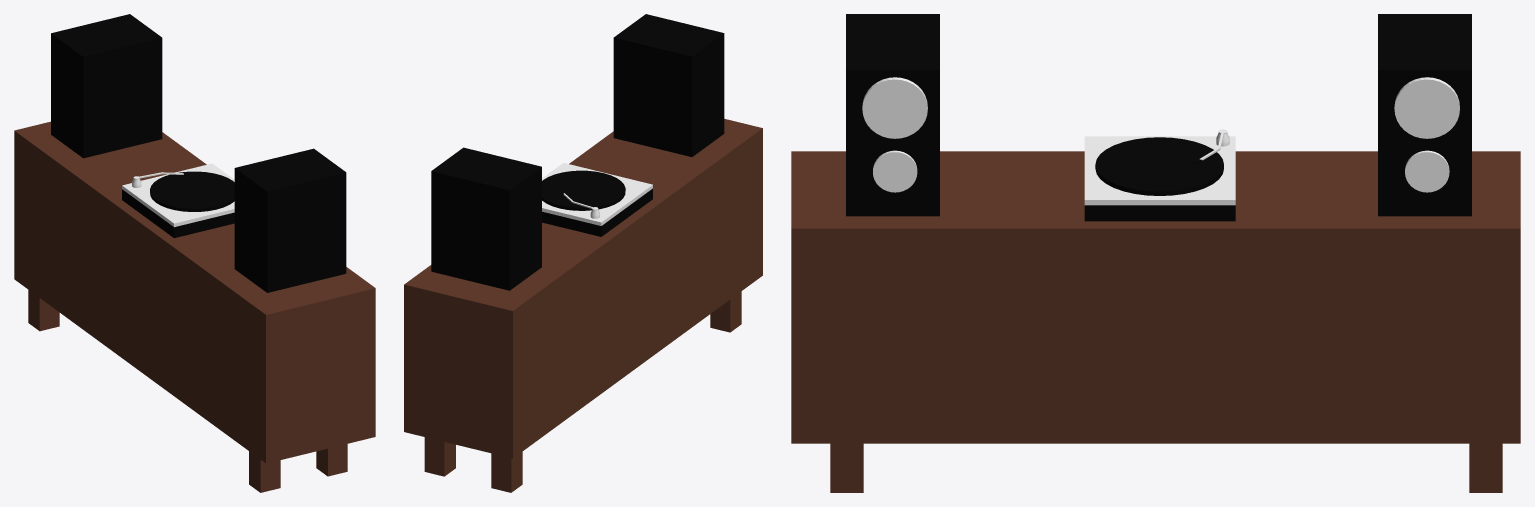
Rendered from Model_Audio.dae.
The picture shows the model from 3 angles, left to right: view 1: azimuth 30°, elevation 25°; view 2: azimuth 150°, elevation 25°; view 3: azimuth 270°, elevation 25°; orthographic projection. The views are drawn at different scales.
Parts seen in each view (by area): view 1: Spot_Video.004, Cube.185, Cube.184, Cylinder.091, Cube.181, Cube.183, Cube.180; view 2: Spot_Video.004, Cube.185, Cube.184, Cylinder.091, Cube.183, Cube.182, Cube.181; view 3: Spot_Video.004, Cube.184, Cube.185, Cylinder.091, Cube.180, Cube.182.
Part boxes in pixels (bbox=[...]): Spot_Video.004: bbox=[14, 121, 375, 463]; Cube.185: bbox=[234, 148, 346, 292]; Cube.184: bbox=[51, 14, 162, 158]; Cylinder.091: bbox=[122, 163, 234, 238]; Cube.181: bbox=[249, 451, 280, 492]; Cube.183: bbox=[28, 290, 59, 331]; Cube.180: bbox=[316, 444, 347, 476]; Spot_Video.004: bbox=[404, 119, 762, 458]; Cube.185: bbox=[613, 14, 724, 156]; Cube.184: bbox=[431, 147, 541, 290]; Cylinder.091: bbox=[542, 163, 652, 236]; Cube.183: bbox=[491, 452, 522, 492]; Cube.182: bbox=[424, 437, 455, 476]; Cube.181: bbox=[710, 291, 741, 332]; Spot_Video.004: bbox=[791, 151, 1520, 443]; Cube.184: bbox=[1378, 14, 1471, 216]; Cube.185: bbox=[846, 14, 939, 216]; Cylinder.091: bbox=[1084, 129, 1235, 221]; Cube.180: bbox=[830, 443, 863, 492]; Cube.182: bbox=[1469, 443, 1502, 492].
Bounding box in the file's own units: 0.5025 × 2 × 1.29.
